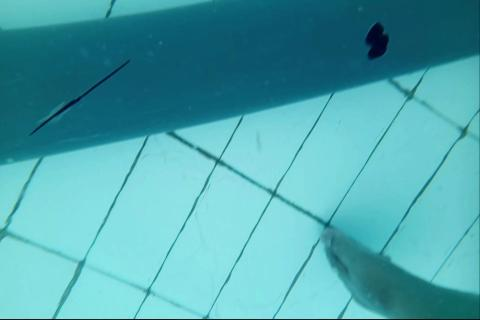kebocoran: (364, 19, 390, 61)
keretakan: (30, 57, 133, 135)
